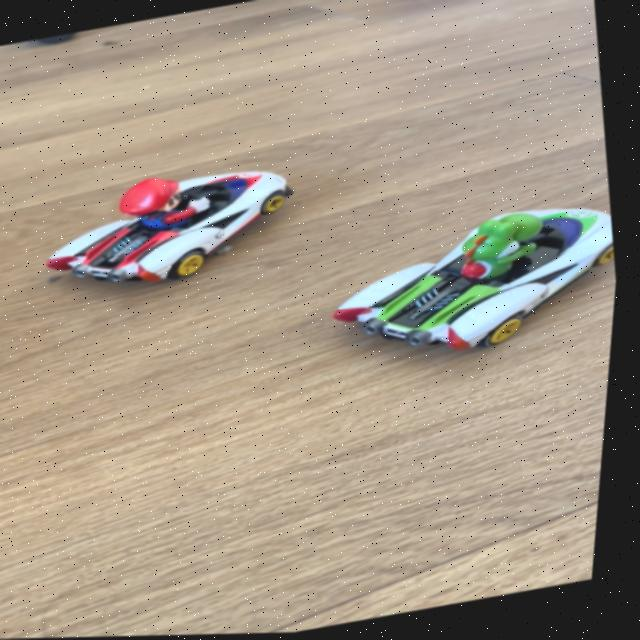mario: (22, 149, 322, 314)
yoshi: (307, 191, 627, 390)
